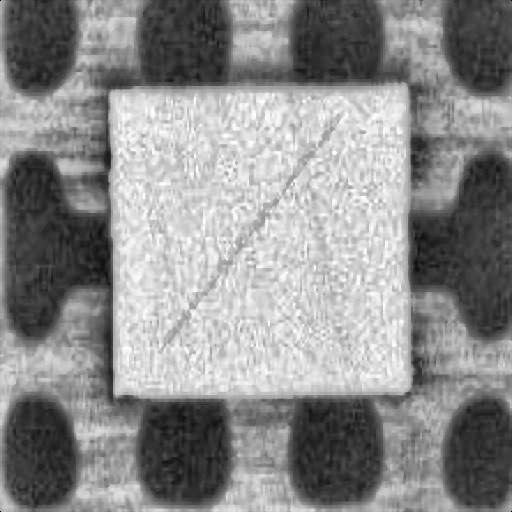DIE_CRACK: (234, 76, 502, 233)
